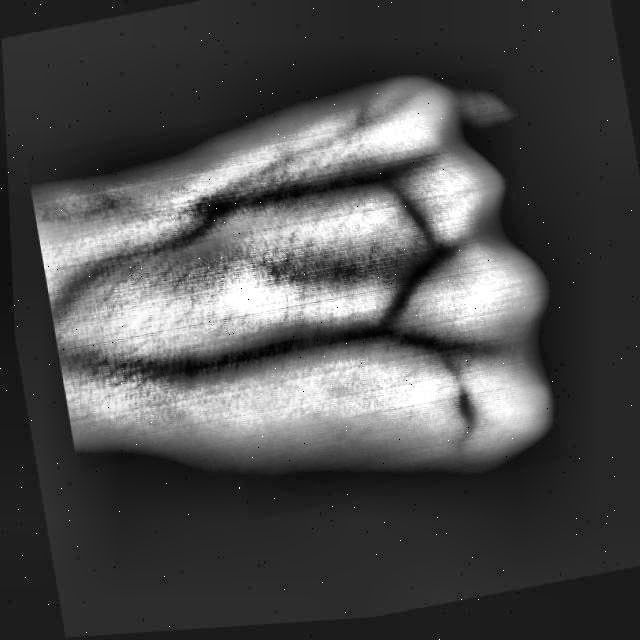Vein: (179, 318, 362, 384)
